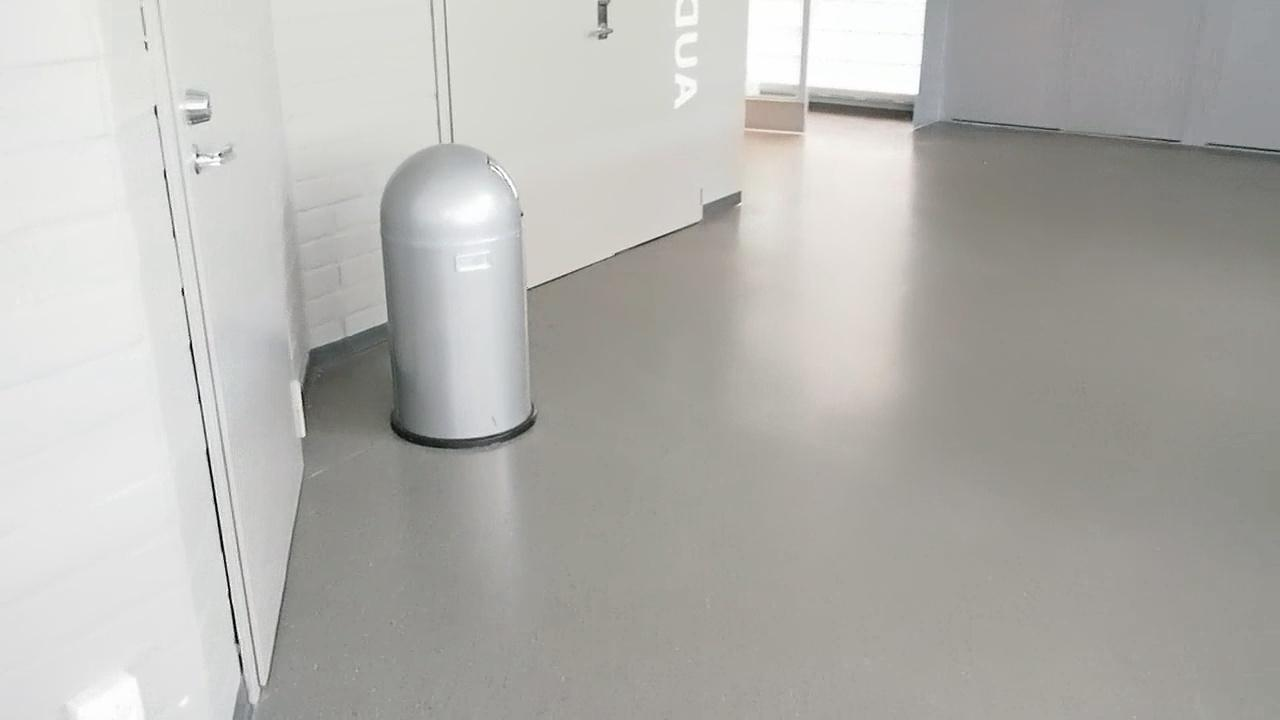trashbin: (375, 151, 530, 444)
